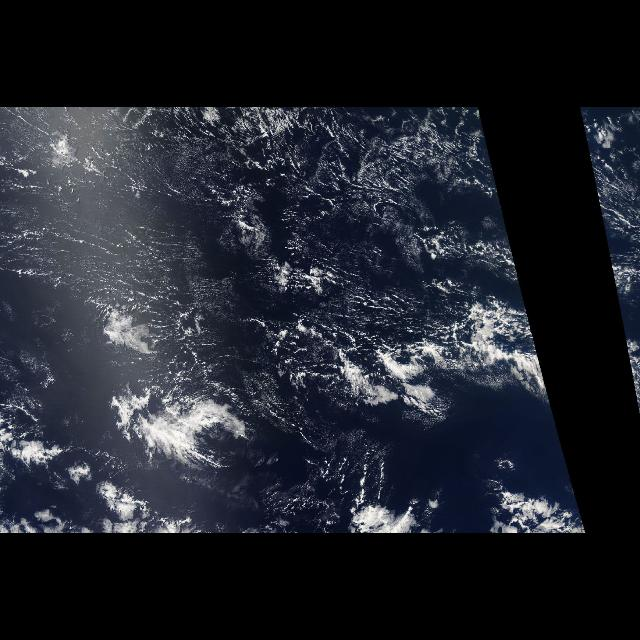Gravel: (20, 116, 456, 414)
Sugar: (20, 190, 252, 318)
